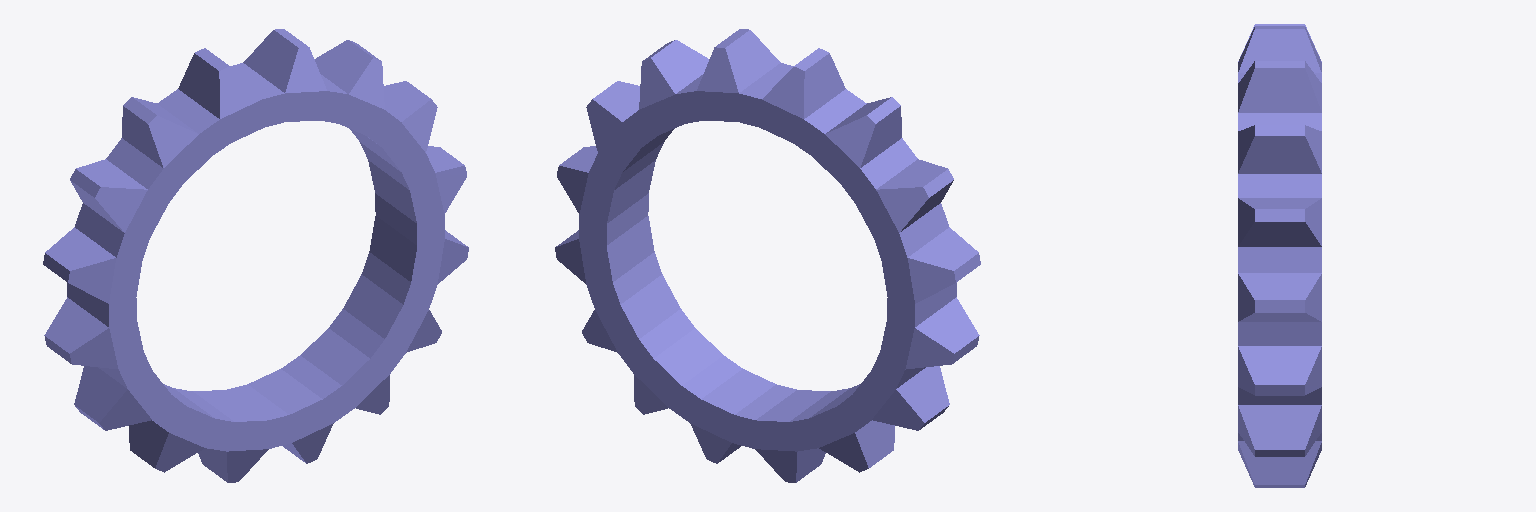
File: Cog16.obj
3 views of the same model, side by side, from view 1: azimuth 30°, elevation 25°; view 2: azimuth 150°, elevation 25°; view 3: azimuth 270°, elevation 25° (orthographic).
Parts seen in each view (by area): view 1: Box035; view 2: Box035; view 3: Box035.
Part boxes in pixels (x1,y1,x2,y2): Box035: (43,29,468,482); Box035: (555,29,980,482); Box035: (1238,24,1321,487).
Bounding box in the file's own units: 2.76 × 2.76 × 0.5.